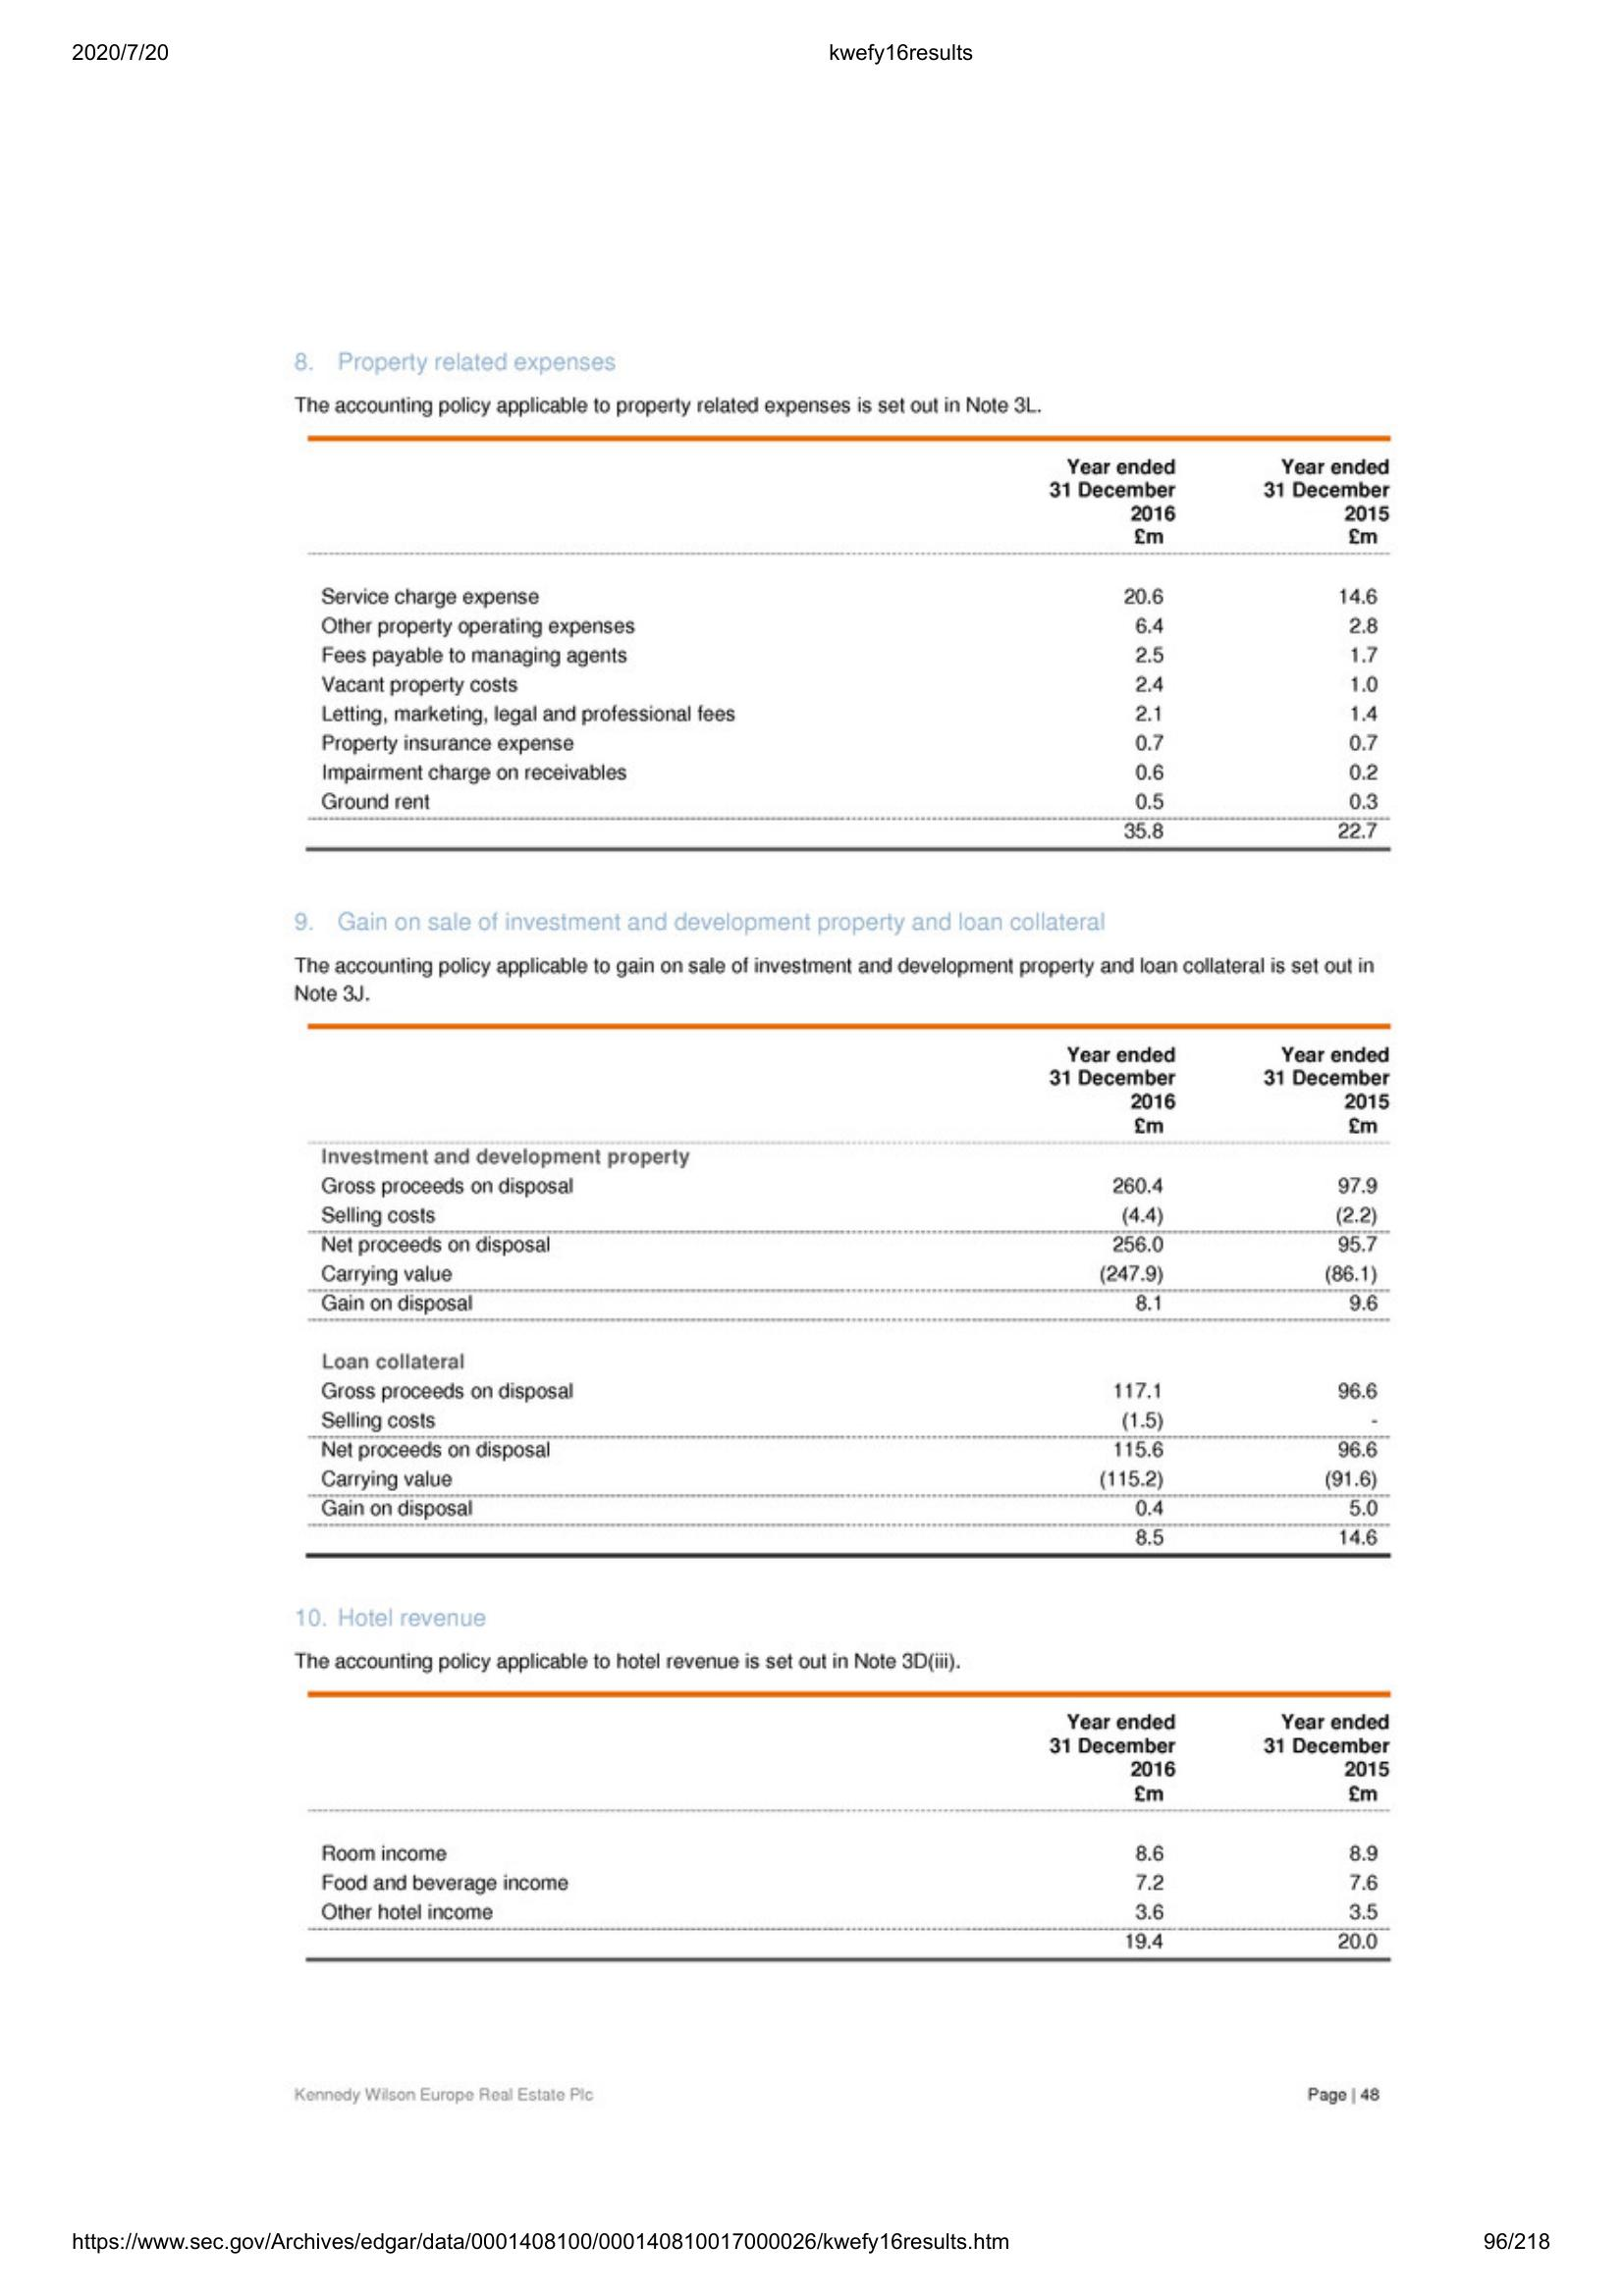table: (299, 1013, 1402, 1564), (295, 428, 1402, 864), (302, 1680, 1396, 1973)
